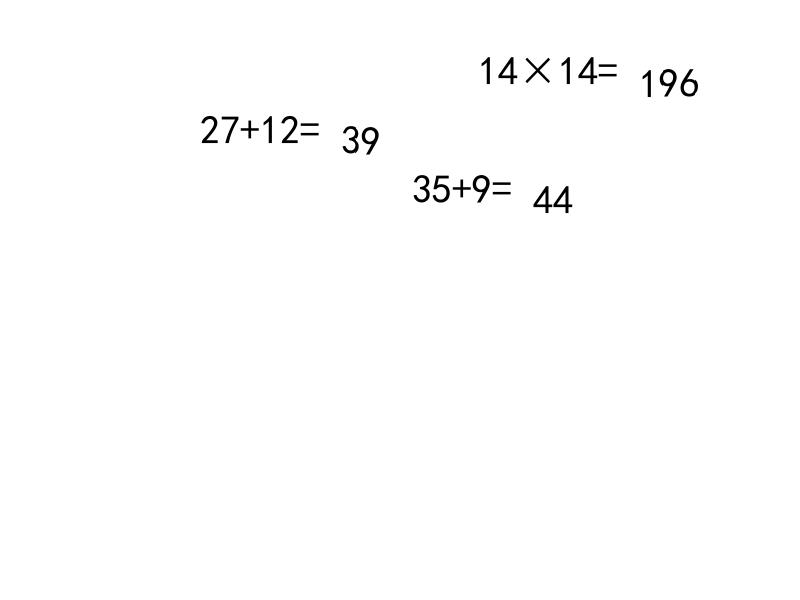+: (240, 109, 260, 138), (452, 168, 472, 197)
1: (260, 109, 280, 138), (478, 50, 498, 78), (558, 50, 578, 78), (628, 50, 648, 78)
2: (200, 109, 220, 138), (280, 109, 300, 138)
3: (330, 109, 350, 138), (412, 168, 432, 197)
4: (522, 168, 542, 197), (542, 168, 562, 197), (498, 50, 518, 78), (578, 50, 598, 78)
5: (432, 168, 452, 197)
6: (668, 50, 688, 78)
7: (220, 109, 240, 138)
9: (350, 109, 370, 138), (472, 168, 492, 197), (648, 50, 668, 78)
=: (300, 109, 320, 138), (492, 168, 512, 197), (598, 50, 618, 78)
×: (518, 50, 558, 78)
